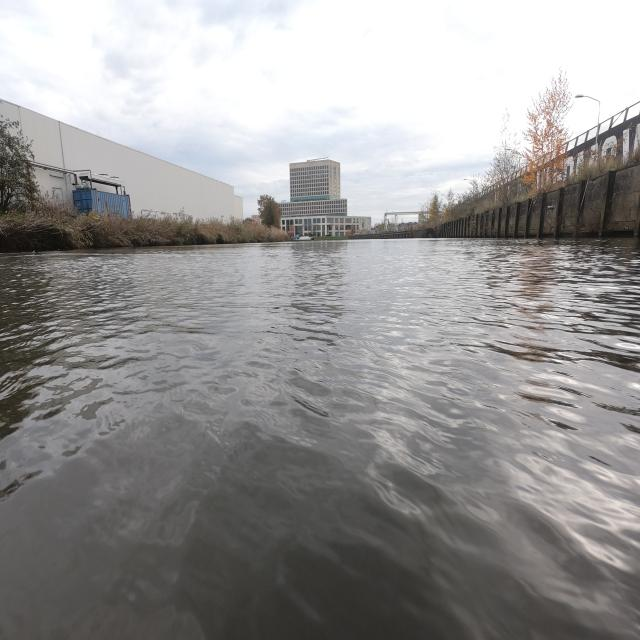reed: (0, 196, 289, 252)
sky: (12, 2, 636, 214)
tree: (0, 117, 38, 214)
wall: (358, 162, 638, 238)
water: (0, 237, 640, 640)
